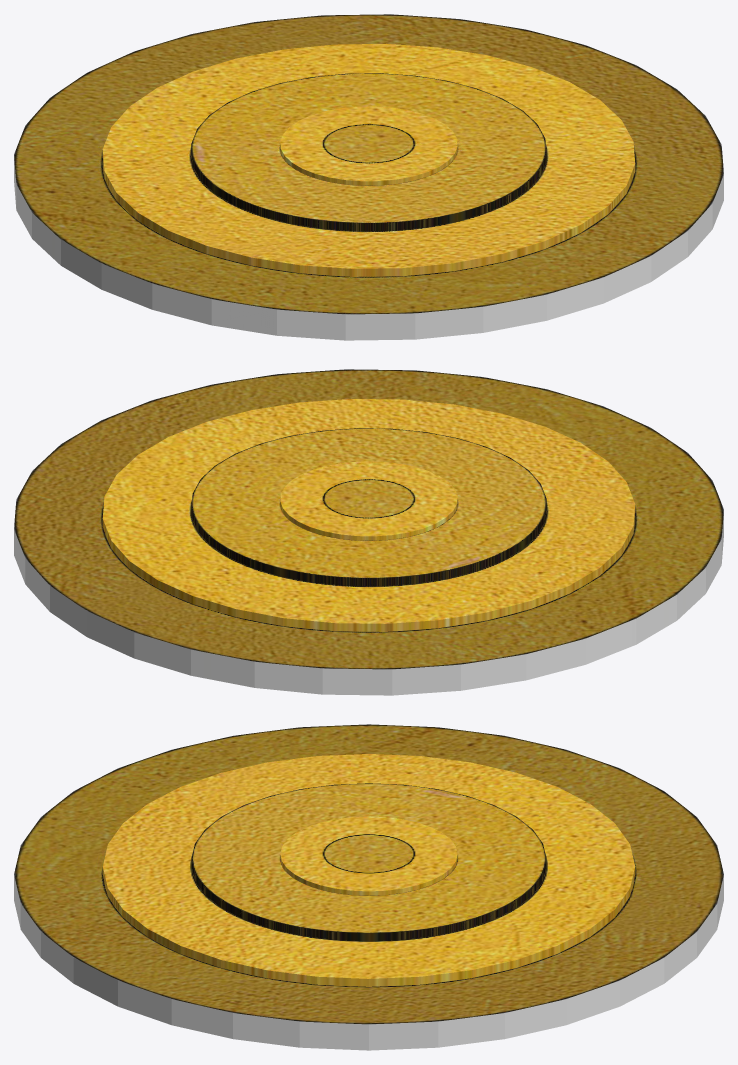
Rendered from DianaGold.fbx.
3 views of the same model, one above another, from view 1: azimuth 30°, elevation 25°; view 2: azimuth 150°, elevation 25°; view 3: azimuth 270°, elevation 25° (orthographic).
Visible parts, largest first — view 1: White, Blue, Red, Yellow; view 2: White, Blue, Red, Yellow; view 3: White, Blue, Red, Yellow.
Part boxes in pixels (left/top/right/bottom): White: left=14, top=14, right=723, bottom=340; Blue: left=102, top=43, right=635, bottom=276; Red: left=191, top=73, right=546, bottom=231; Yellow: left=280, top=106, right=457, bottom=185; White: left=14, top=369, right=723, bottom=695; Blue: left=102, top=398, right=635, bottom=631; Red: left=191, top=428, right=546, bottom=586; Yellow: left=280, top=461, right=457, bottom=540; White: left=14, top=724, right=723, bottom=1050; Blue: left=102, top=754, right=635, bottom=986; Red: left=191, top=783, right=546, bottom=941; Yellow: left=280, top=816, right=457, bottom=895.
Bounding box in the file's own units: 800 × 57.97 × 800.
1 material, 1 textured.
